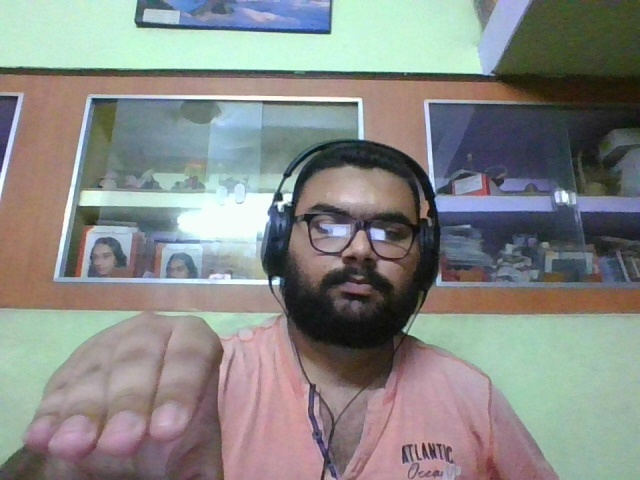no: (20, 310, 232, 480)
